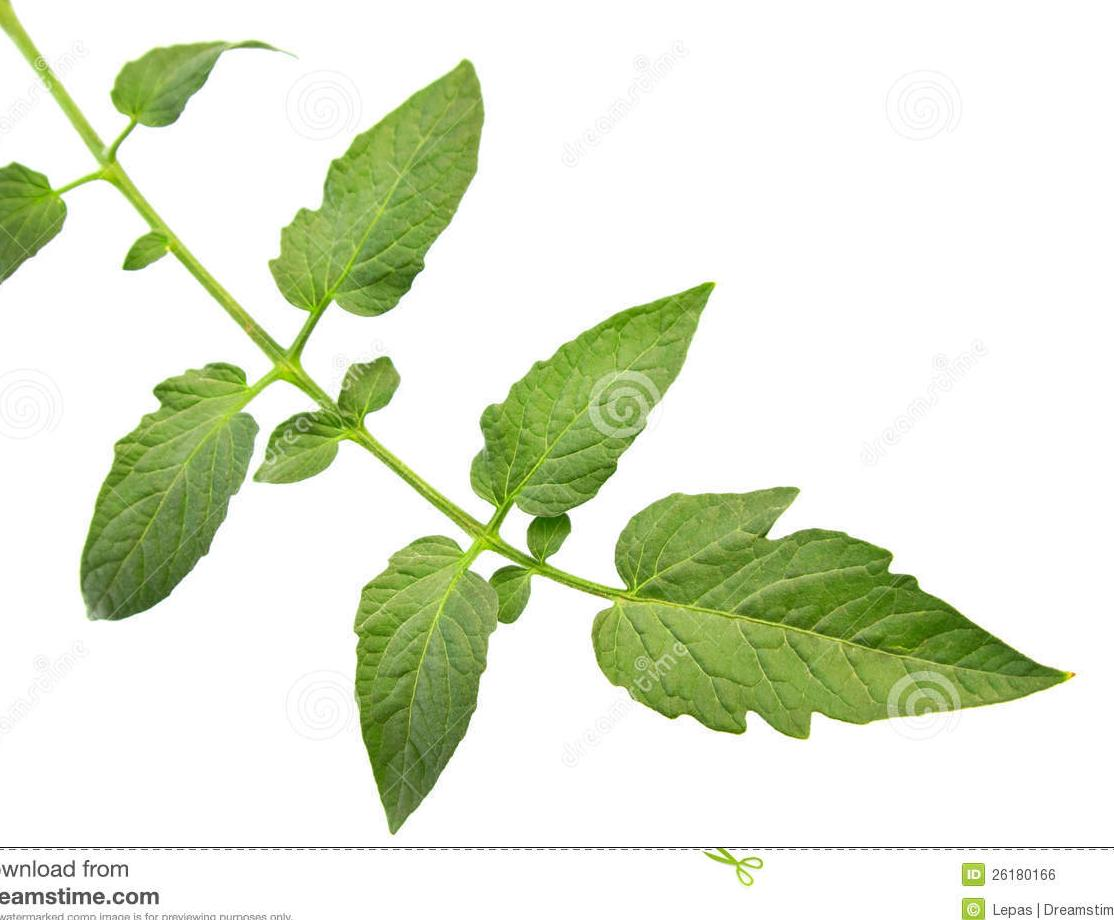Tomato leaf: (605, 461, 1091, 809), (214, 24, 536, 349), (289, 516, 580, 838), (10, 348, 276, 644), (477, 266, 748, 539), (107, 5, 294, 160), (0, 157, 85, 347)
